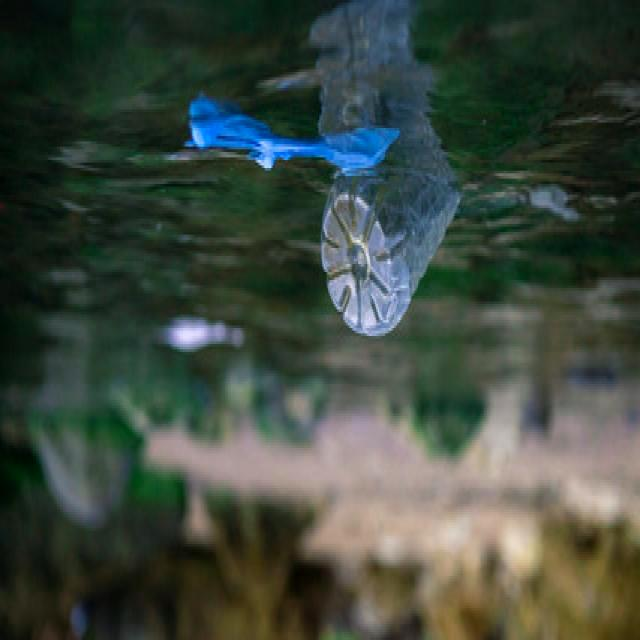Plastic: (312, 171, 467, 340)
Trash: (178, 102, 398, 176), (518, 180, 584, 230)
